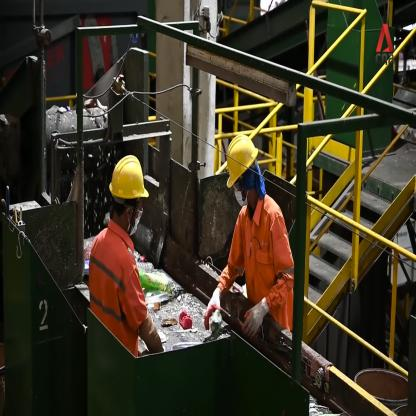Glass Bottle: (137, 266, 169, 294), (133, 261, 155, 273)
